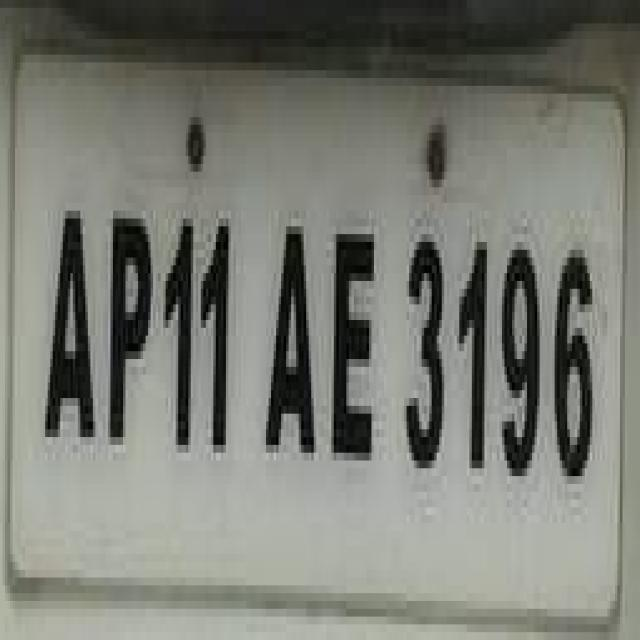license_plate: (0, 54, 607, 593)
